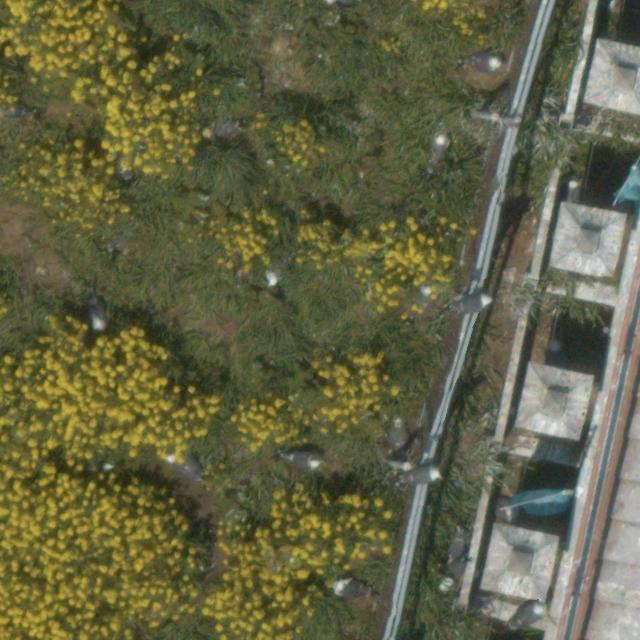umineko: (449, 292, 496, 318), (427, 133, 449, 167), (390, 414, 406, 458), (88, 294, 106, 328), (172, 457, 201, 478), (283, 451, 319, 467), (334, 579, 366, 597), (469, 54, 499, 71), (405, 467, 438, 482), (518, 604, 542, 621)
